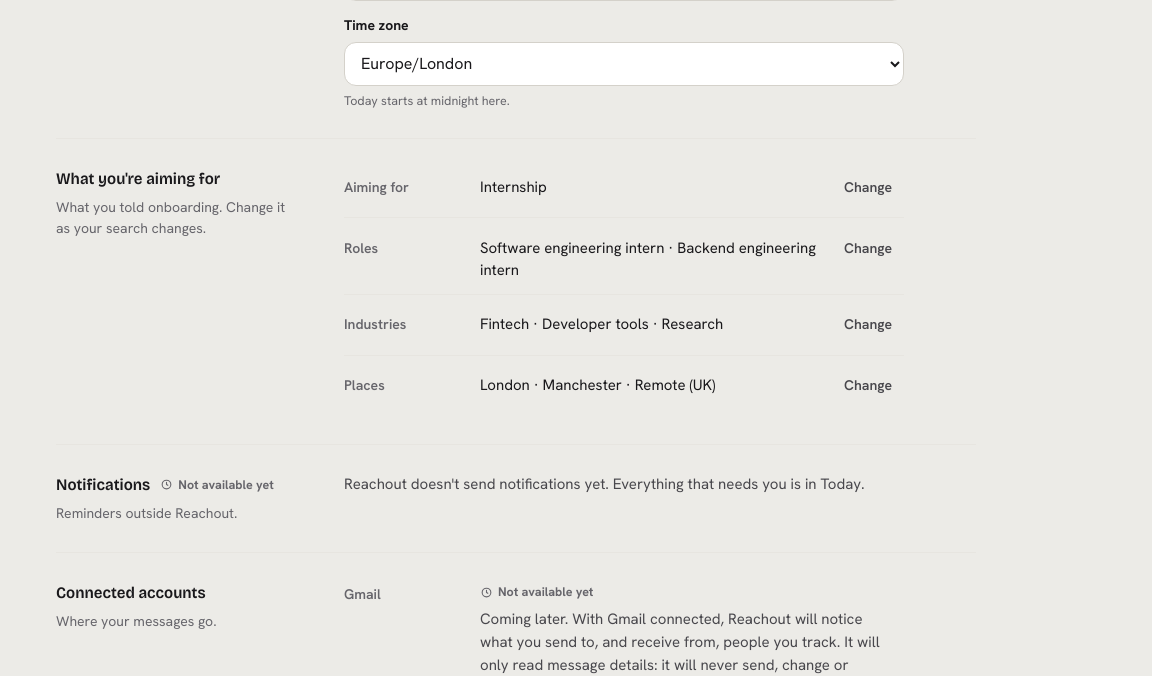
Test case: production Settings › keeps at least one of each target
(page scrolled)
Click the button with aria-label "Change industries" at (868, 325), box x1=832 y1=307 x2=904 y2=343
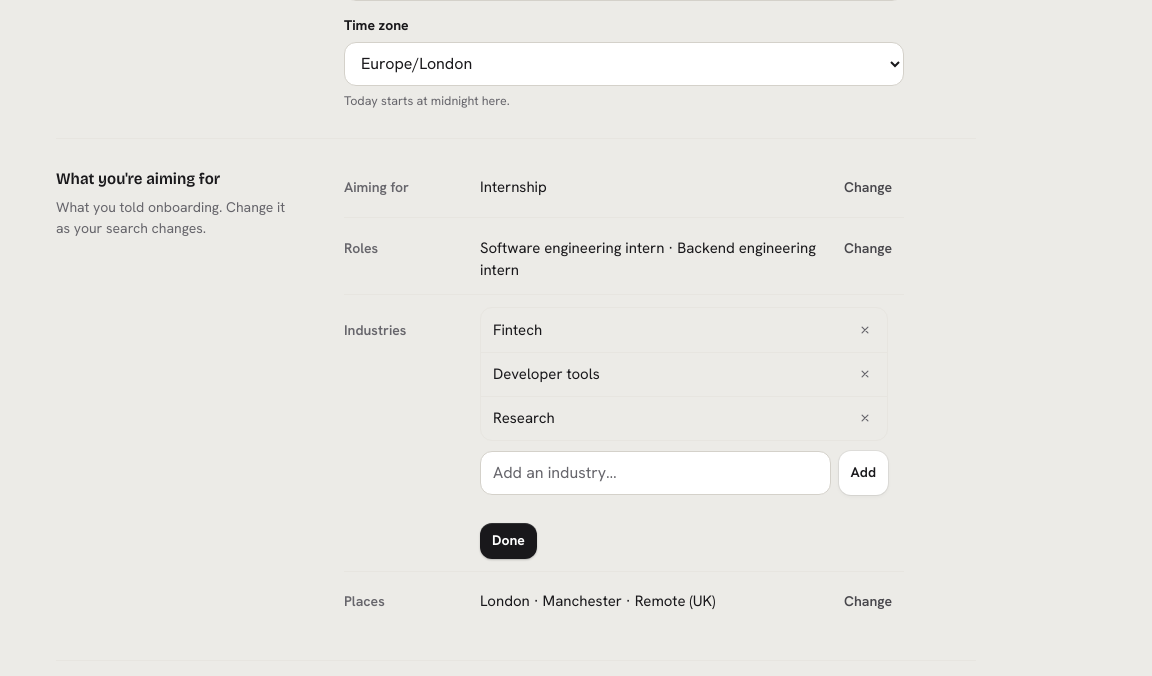
Click the button named "Remove Fintech" at (865, 330), box x1=849 y1=314 x2=881 y2=346
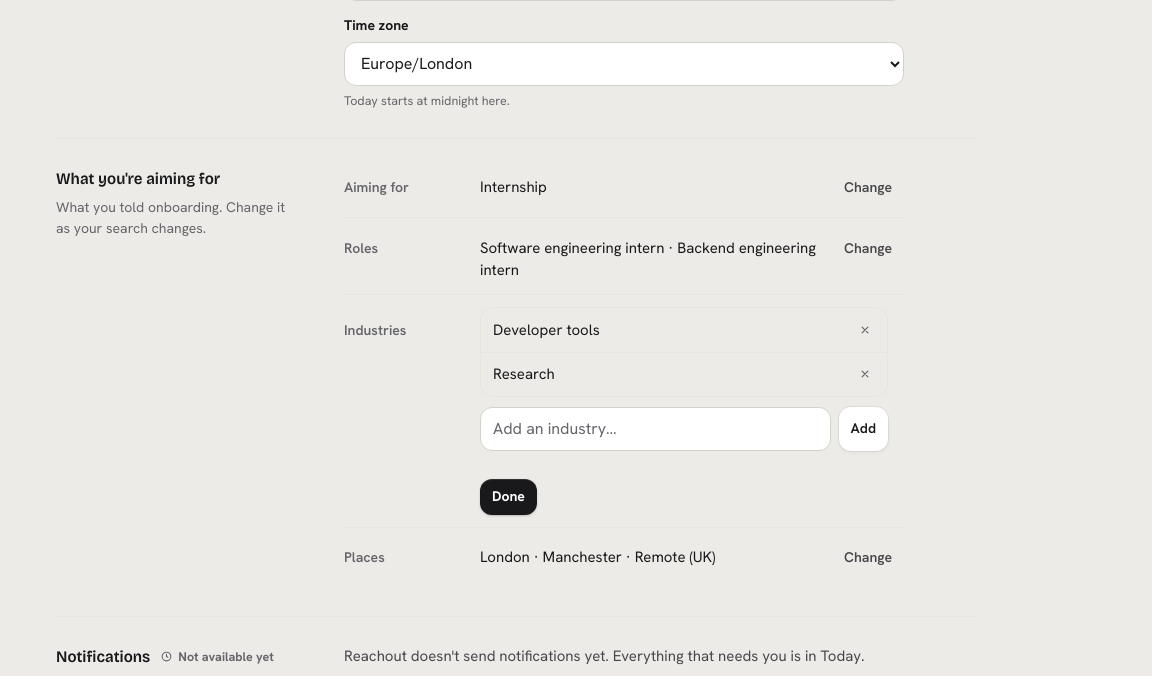
Click the button named "Remove Developer tools" at (865, 330), box x1=849 y1=314 x2=881 y2=346
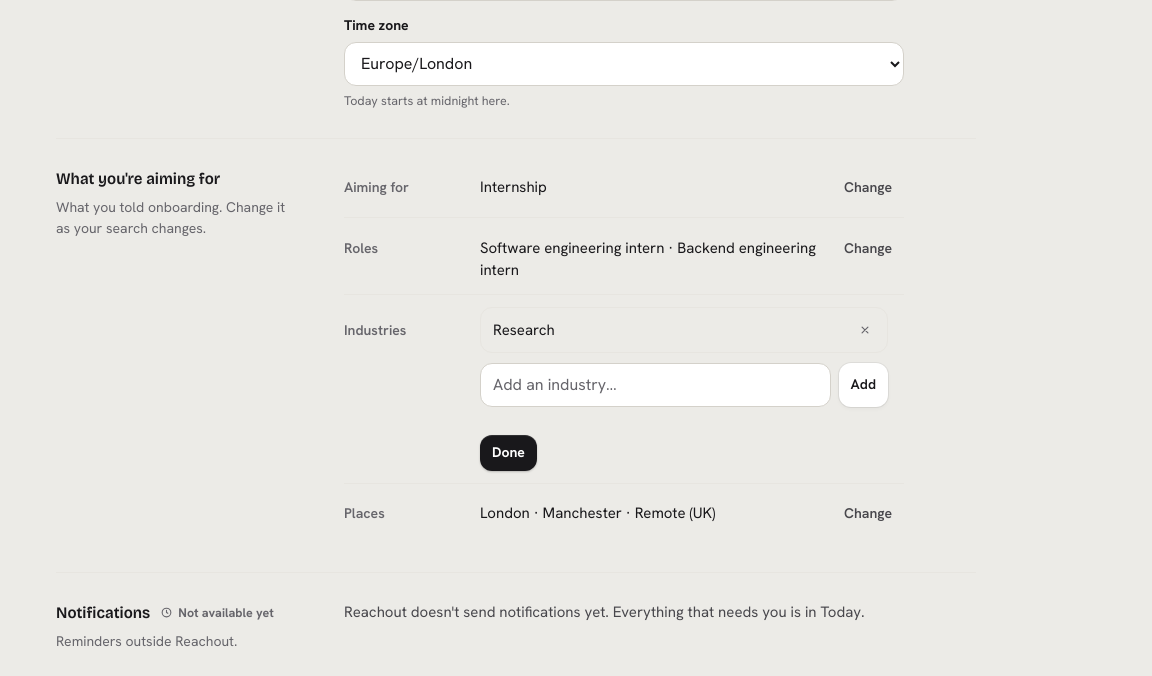
Click the button named "Remove Research" at (865, 330), box x1=849 y1=314 x2=881 y2=346
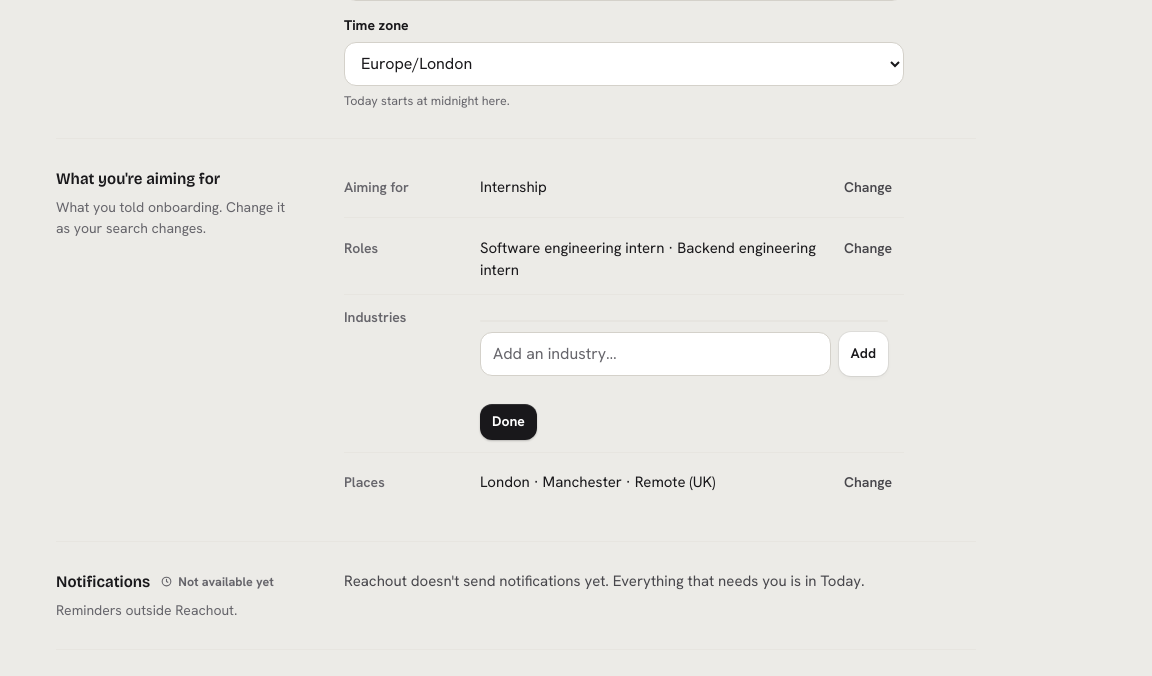
Click the button "Done" at (508, 422), box x1=480 y1=404 x2=537 y2=440
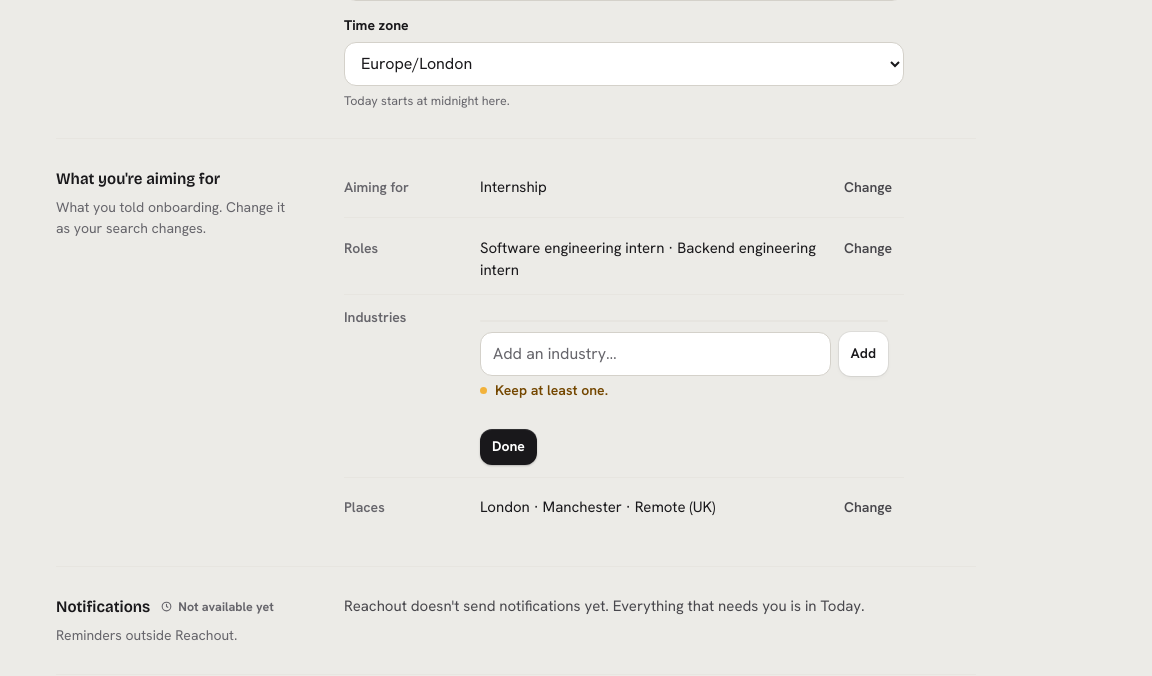
Check: the text "Keep at least one." is shown, box x1=480 y1=381 x2=608 y2=399
